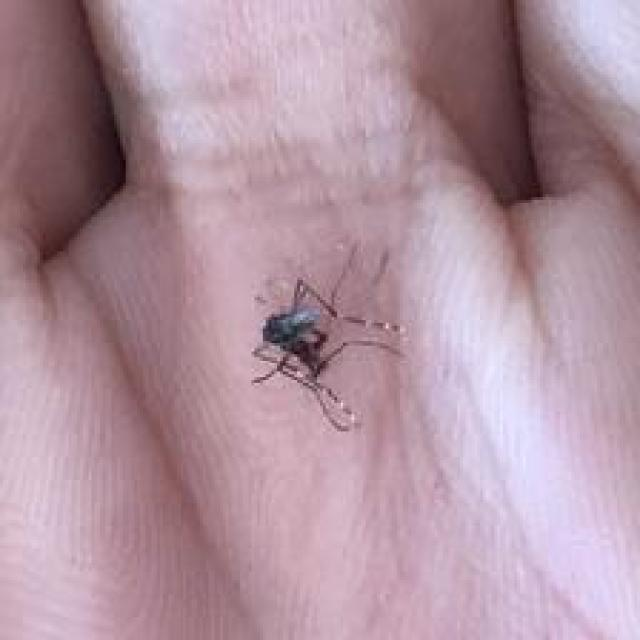Aedes albopictus: (248, 241, 408, 433)
